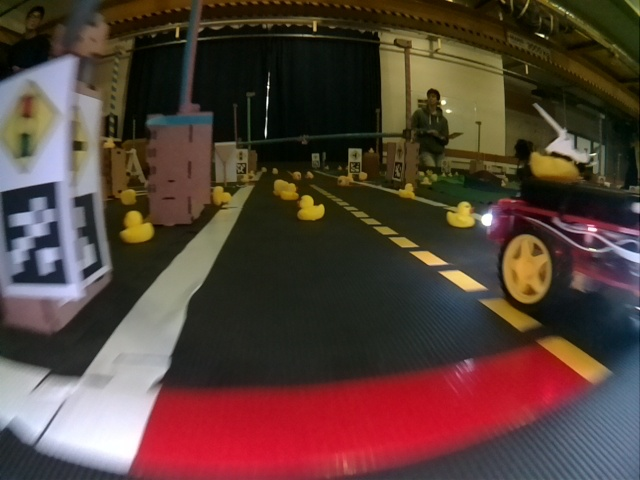Duckie: (121, 212, 153, 242), (448, 203, 475, 226), (299, 195, 322, 219), (213, 186, 228, 204), (399, 183, 413, 198), (121, 191, 137, 204), (281, 184, 297, 196), (273, 179, 285, 194), (306, 171, 314, 179), (360, 171, 367, 180)
Duckiebot: (488, 138, 638, 312)
QR code: (2, 191, 69, 289), (69, 194, 107, 280)
